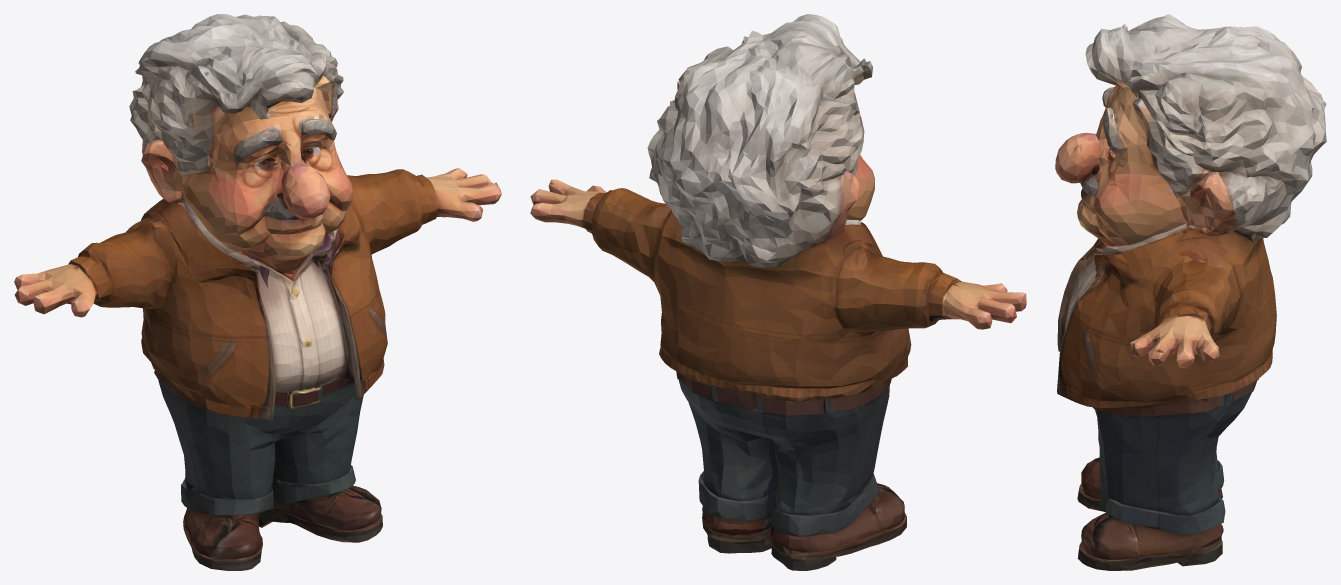
Rendered from pepe-unrigged.fbx.
3 renders of one model, left to right at view 1: azimuth 30°, elevation 25°; view 2: azimuth 150°, elevation 25°; view 3: azimuth 270°, elevation 25°, orthographic. The views are drawn at different scales.
Visible parts, largest first — view 1: temp; view 2: temp; view 3: temp.
Part boxes in pixels (bbox=[...]): temp: bbox=[14, 14, 501, 570]; temp: bbox=[530, 14, 1026, 570]; temp: bbox=[1055, 14, 1326, 570].
Bounding box in the file's own units: 200 × 200 × 97.43.
Materials: 1 (1 with a texture image).
